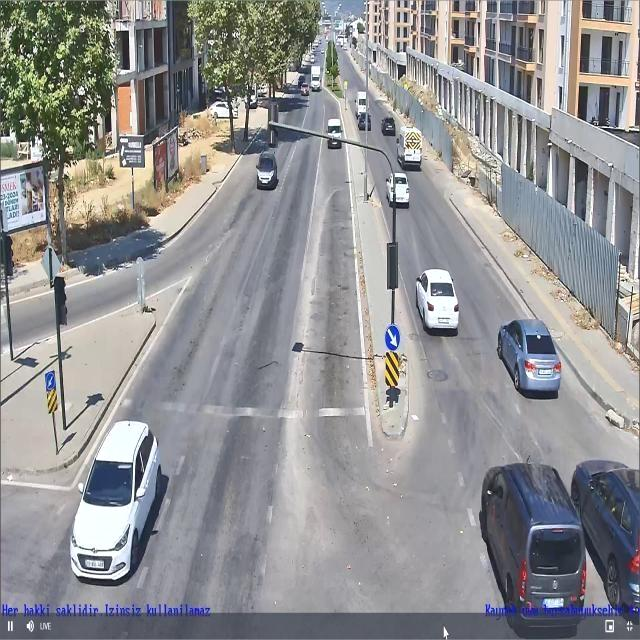Car: (469, 447, 587, 632), (68, 408, 166, 591), (576, 434, 640, 628), (501, 305, 567, 415), (411, 252, 468, 350), (252, 152, 281, 188), (385, 172, 415, 204), (380, 114, 398, 137), (356, 113, 376, 132), (297, 82, 310, 94)
Truck: (353, 87, 372, 119), (309, 62, 326, 96)
Van: (328, 119, 342, 149)
